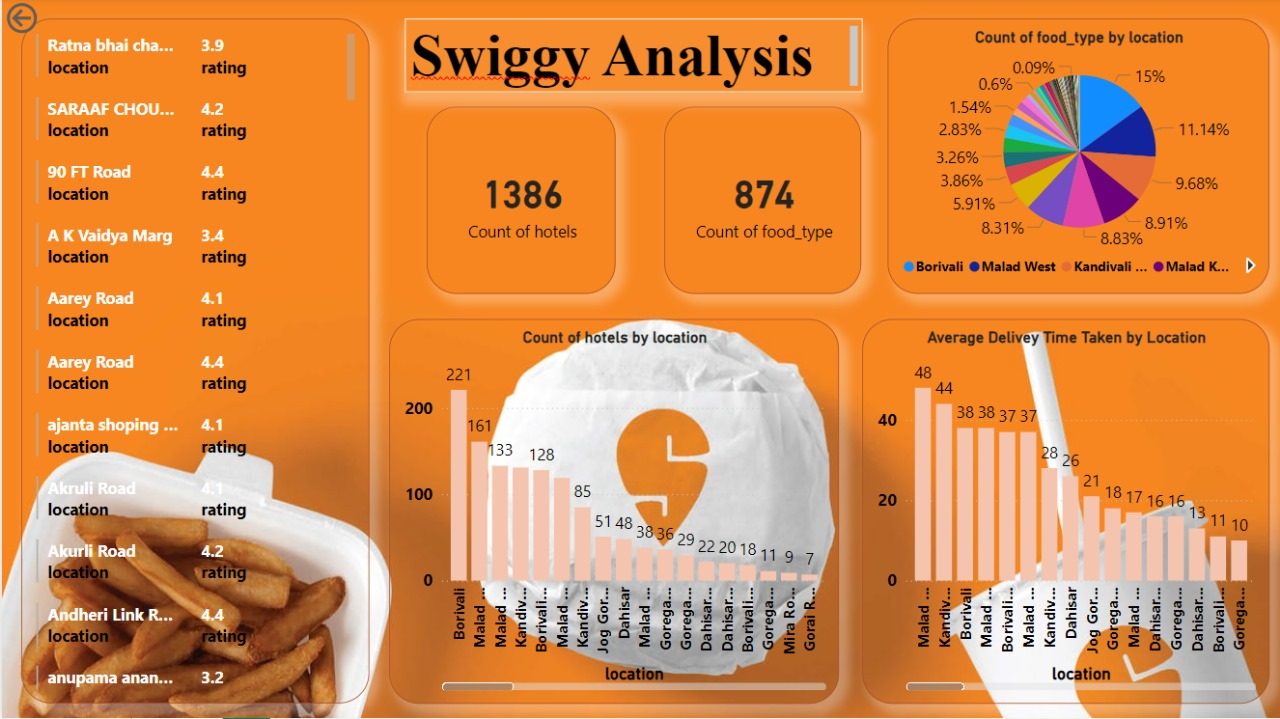

What the dashboard file says about the page in this screenshot:
{"tool":"powerbi","page":{"name":"Page 1","canvas":[1280,720],"ordinal":0},"visuals":[{"type":"pieChart","fields":{"Y":["Count(swiggy_cleaned.food_type)"],"Category":["swiggy_cleaned.location"]},"box":[885.3,20.7,381.5,275],"z":0},{"type":"card","fields":{"Values":["Count(swiggy_cleaned.hotel_name)"]},"box":[424.4,108.1,189.1,187.5],"z":1000},{"type":"card","fields":{"Values":["Count(swiggy_cleaned.food_type)"]},"box":[662.8,108.1,197.1,187.5],"z":2000},{"type":"columnChart","title":"Count of hotels by location","fields":{"Category":["swiggy_cleaned.location"],"Y":["Count(swiggy_cleaned.hotel_name)"]},"box":[387.8,321.1,449.8,384.6],"z":3000},{"type":"multiRowCard","fields":{"Values":["swiggy_cleaned.location","swiggy_cleaned.rating"]},"box":[19.1,20.7,348.1,685],"z":4000},{"type":"actionButton","box":[0,0,100,40],"z":5000},{"type":"columnChart","title":"Average Delivey Time Taken by Location","fields":{"Y":["swiggy_cleaned.Count of time_minutes average per location"],"Category":["swiggy_cleaned.location"]},"box":[859.9,321.1,406.9,384.6],"z":6000},{"type":"textbox","box":[424.4,20.7,435.5,73.1],"z":6001}]}

Visuals, with their boxes in screenshot pixels (x1, y1, x2, y2), scaled from the page's 1280x720 canvas onto the 1280x719 screenshot:
pieChart - Count(swiggy_cleaned.food_type) x swiggy_cleaned.location: Rect(885, 21, 1267, 295)
card - Count(swiggy_cleaned.hotel_name): Rect(424, 108, 614, 295)
card - Count(swiggy_cleaned.food_type): Rect(663, 108, 860, 295)
"Count of hotels by location" columnChart: Rect(388, 321, 838, 705)
multiRowCard - swiggy_cleaned.location x swiggy_cleaned.rating: Rect(19, 21, 367, 705)
actionButton: Rect(0, 0, 100, 40)
"Average Delivey Time Taken by Location" columnChart: Rect(860, 321, 1267, 705)
textbox: Rect(424, 21, 860, 94)
